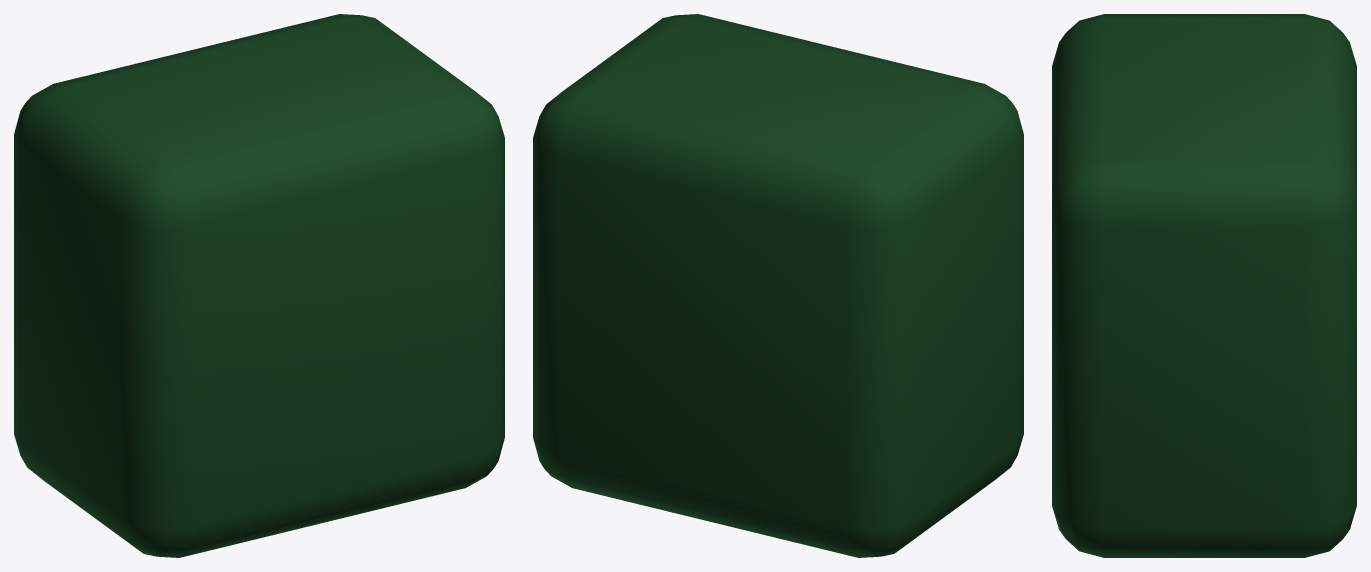
Rendered from landscape.hedge.h1000.glb.
3 renders of one model, left to right at view 1: azimuth 30°, elevation 25°; view 2: azimuth 150°, elevation 25°; view 3: azimuth 270°, elevation 25°, orthographic.
Parts seen in each view (by area): view 1: main__foliage_dark; view 2: main__foliage_dark; view 3: main__foliage_dark.
Boxes of the visible parts, x1,y1,x2,y2 form: main__foliage_dark: (14, 14, 504, 557); main__foliage_dark: (533, 14, 1023, 557); main__foliage_dark: (1052, 14, 1356, 557).
Bounding box in the file's own units: 1 × 1 × 0.7.
